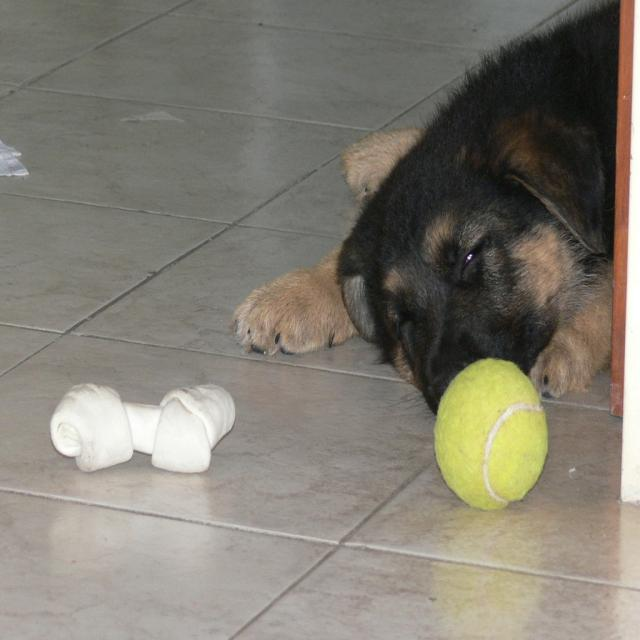Tennis ball: (434, 358, 548, 512)
